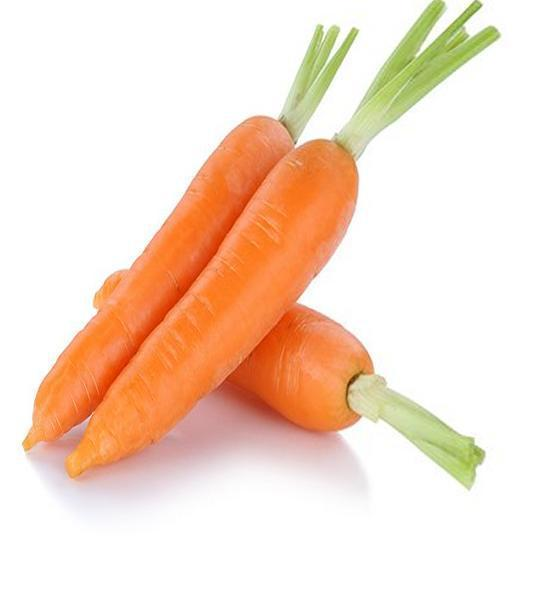carrot: (27, 115, 402, 466)
